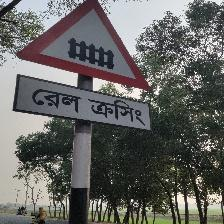Rail-crossing: (12, 0, 153, 133)
